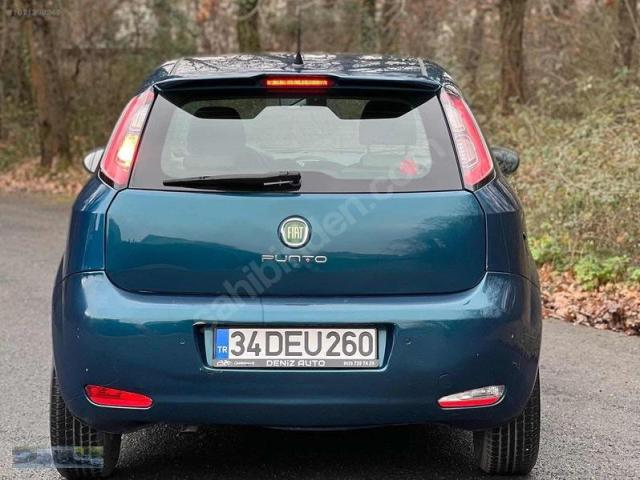plaka: (213, 327, 380, 368)
